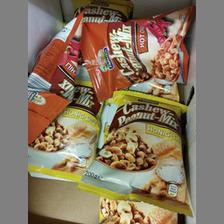Nuss: (74, 89, 194, 215), (78, 5, 193, 104), (27, 12, 85, 144)
